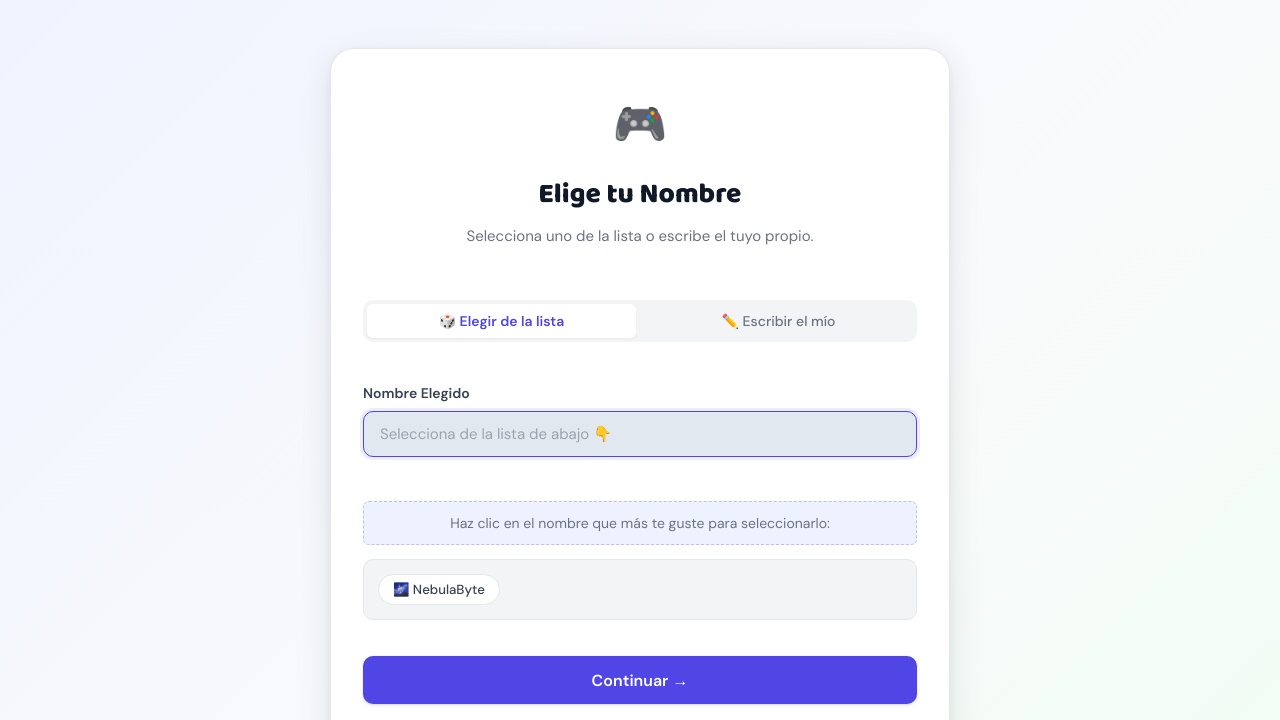
Test case: Register Page Integration › handles nickname already taken error
Step 1. Click the button "🌌 NebulaByte" → (439, 590), box [378,574,500,605]
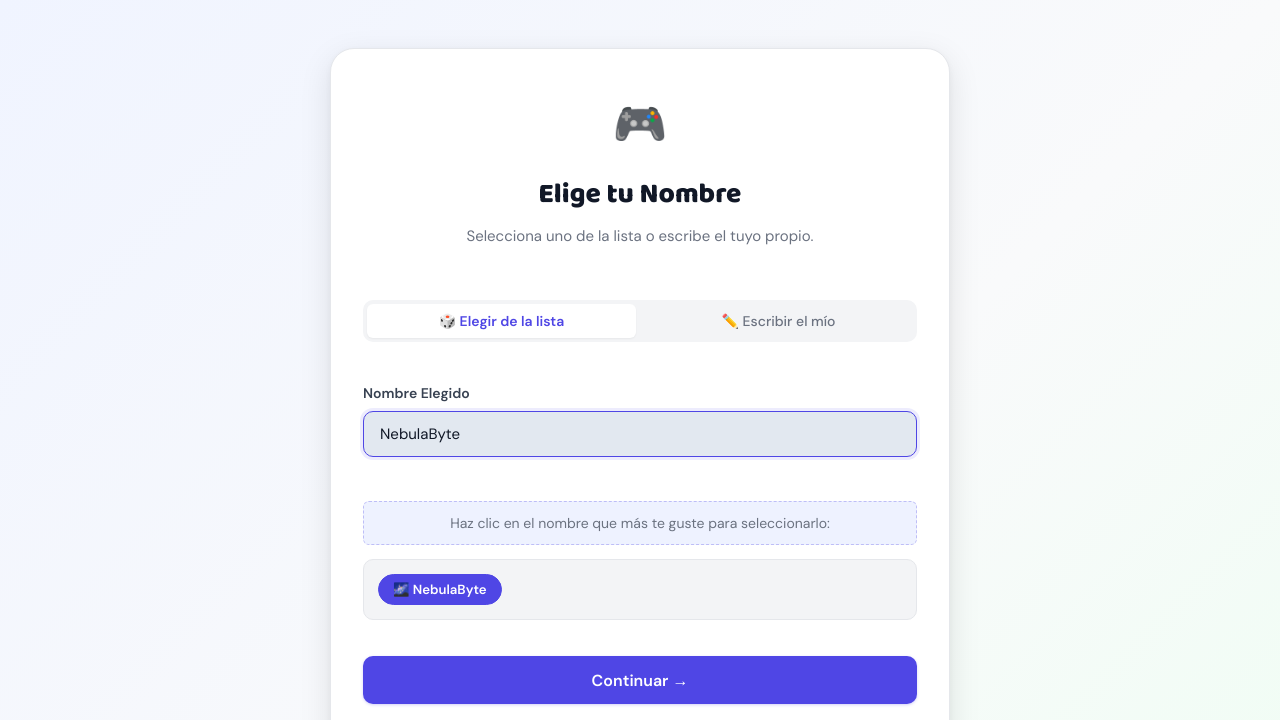
Step 2. Click the button "Continuar →" → (640, 680), box [363,656,917,704]
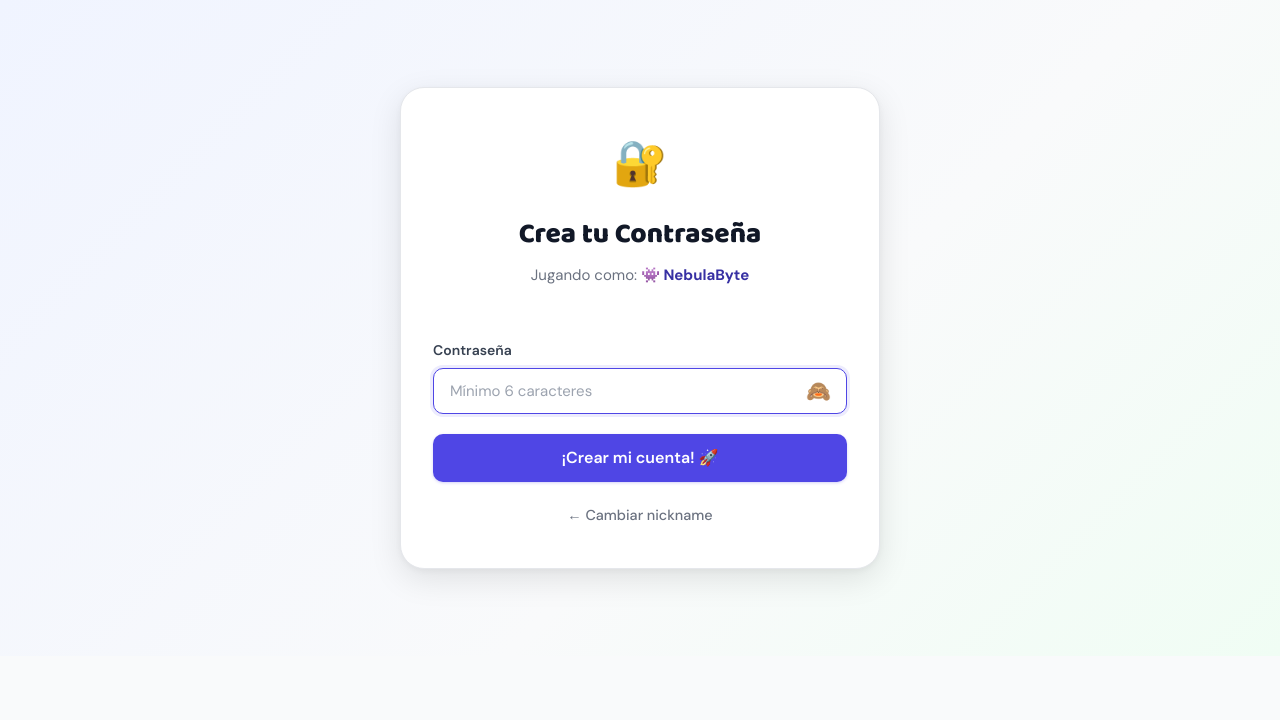
Step 3. Type "password123" into the password field labelled "Contraseña" → (640, 391), box [433,368,847,414]
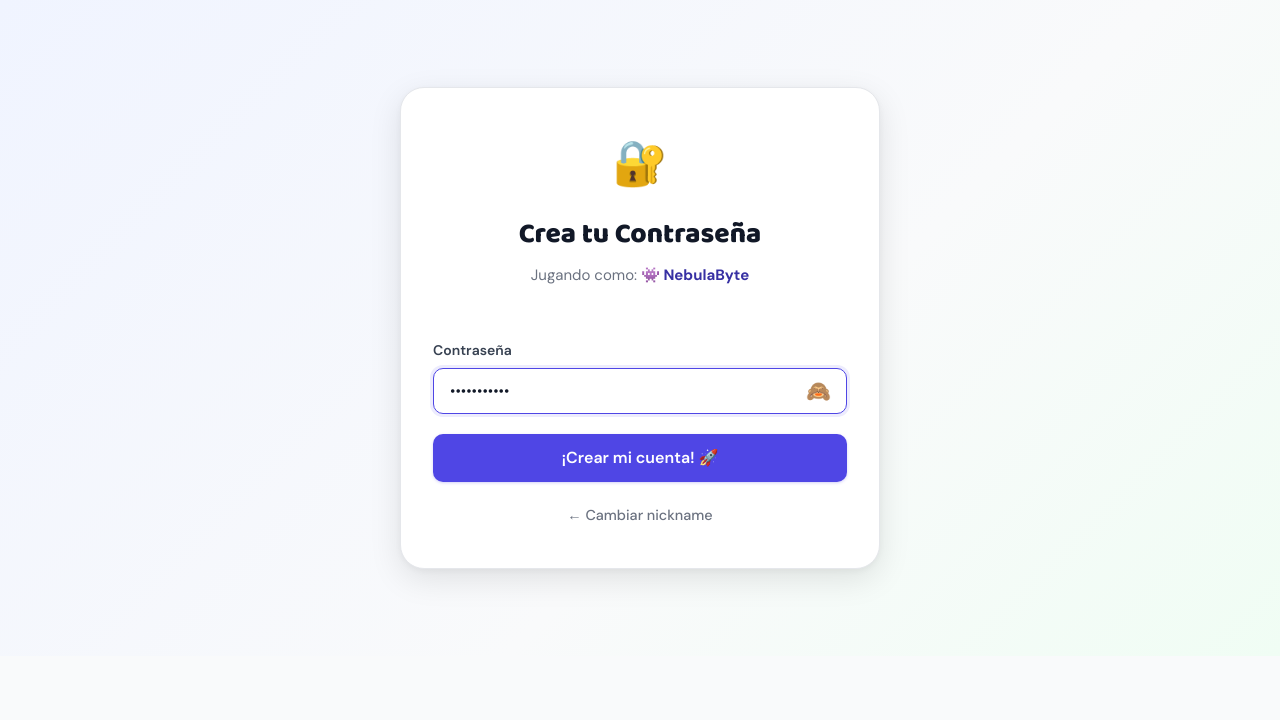
Step 4. Click the button "¡Crear mi cuenta! 🚀" → (640, 458), box [433,434,847,482]
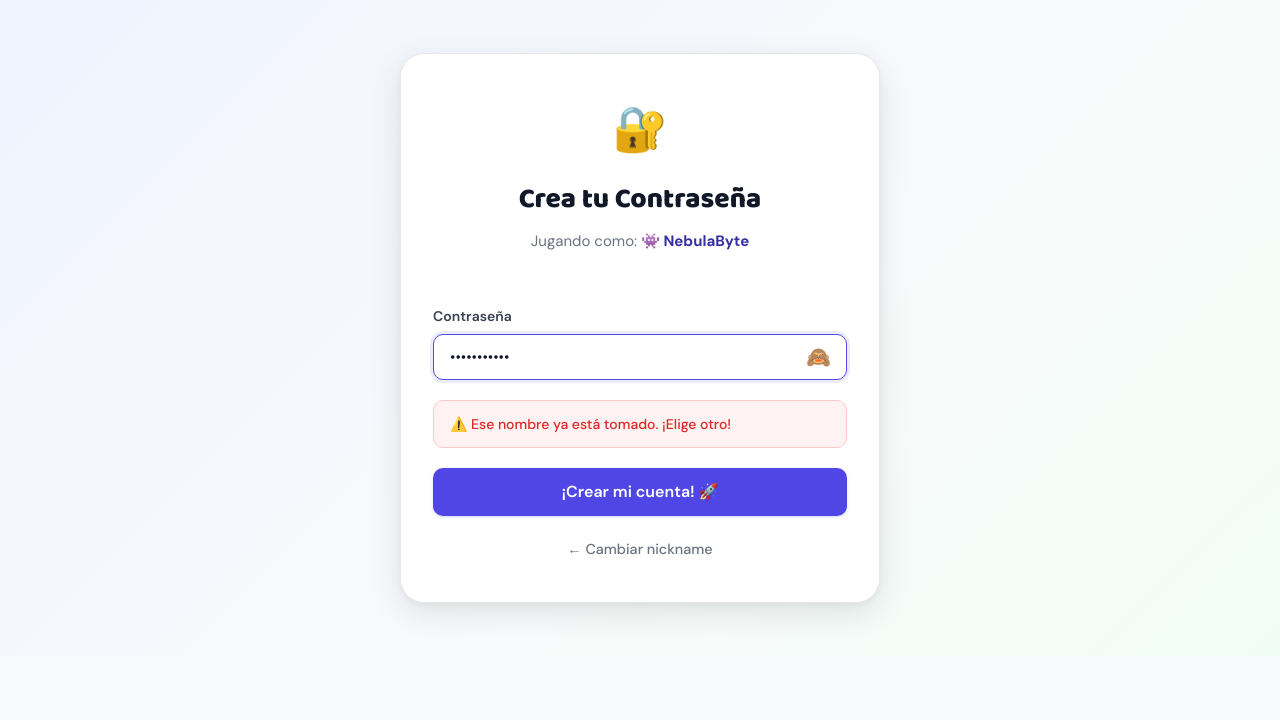
Expected: the text "⚠️ Ese nombre ya está tomado. ¡Elige otro!" is shown, [433,400,847,448]
